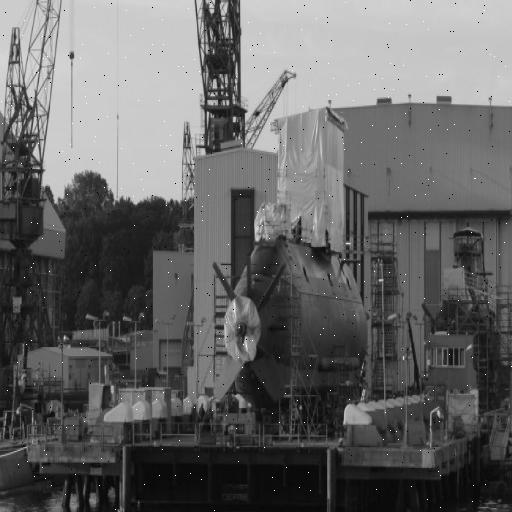submarine: (216, 244, 367, 419)
